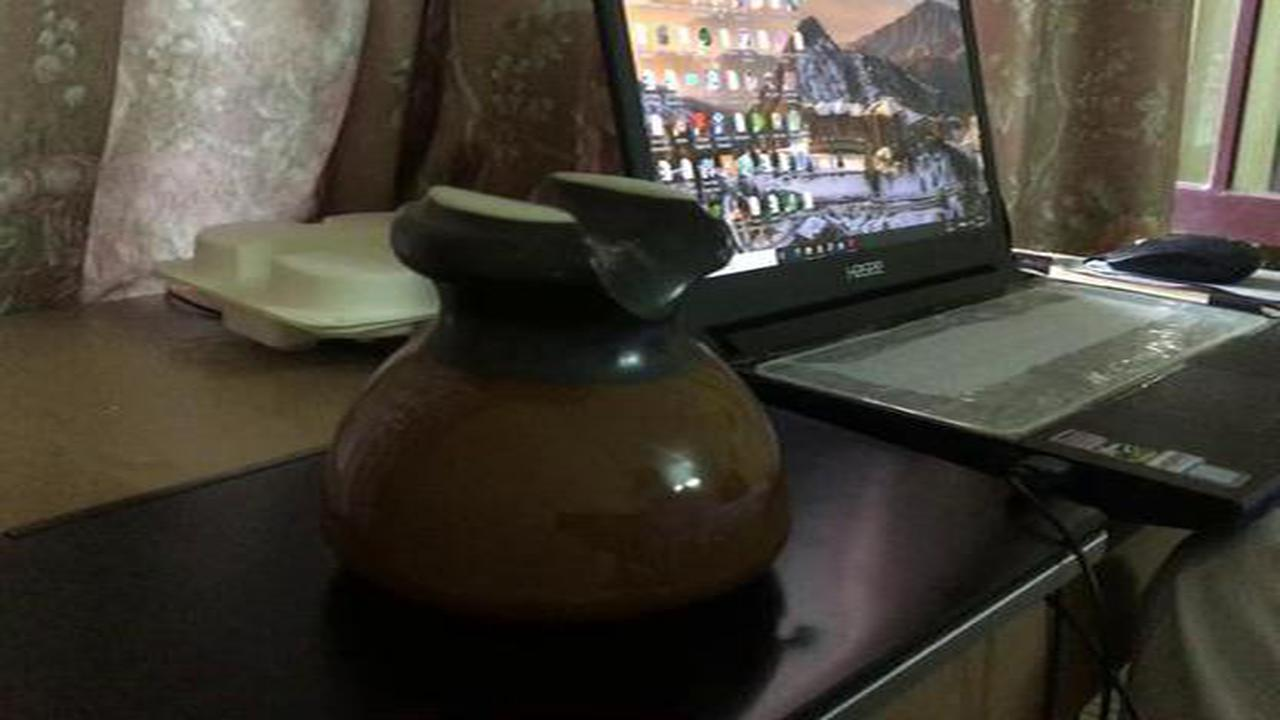insulator_pin: (299, 151, 825, 632)
